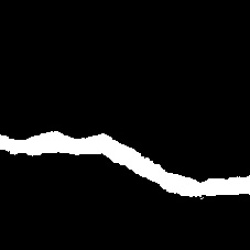crack: (1, 129, 247, 200)
